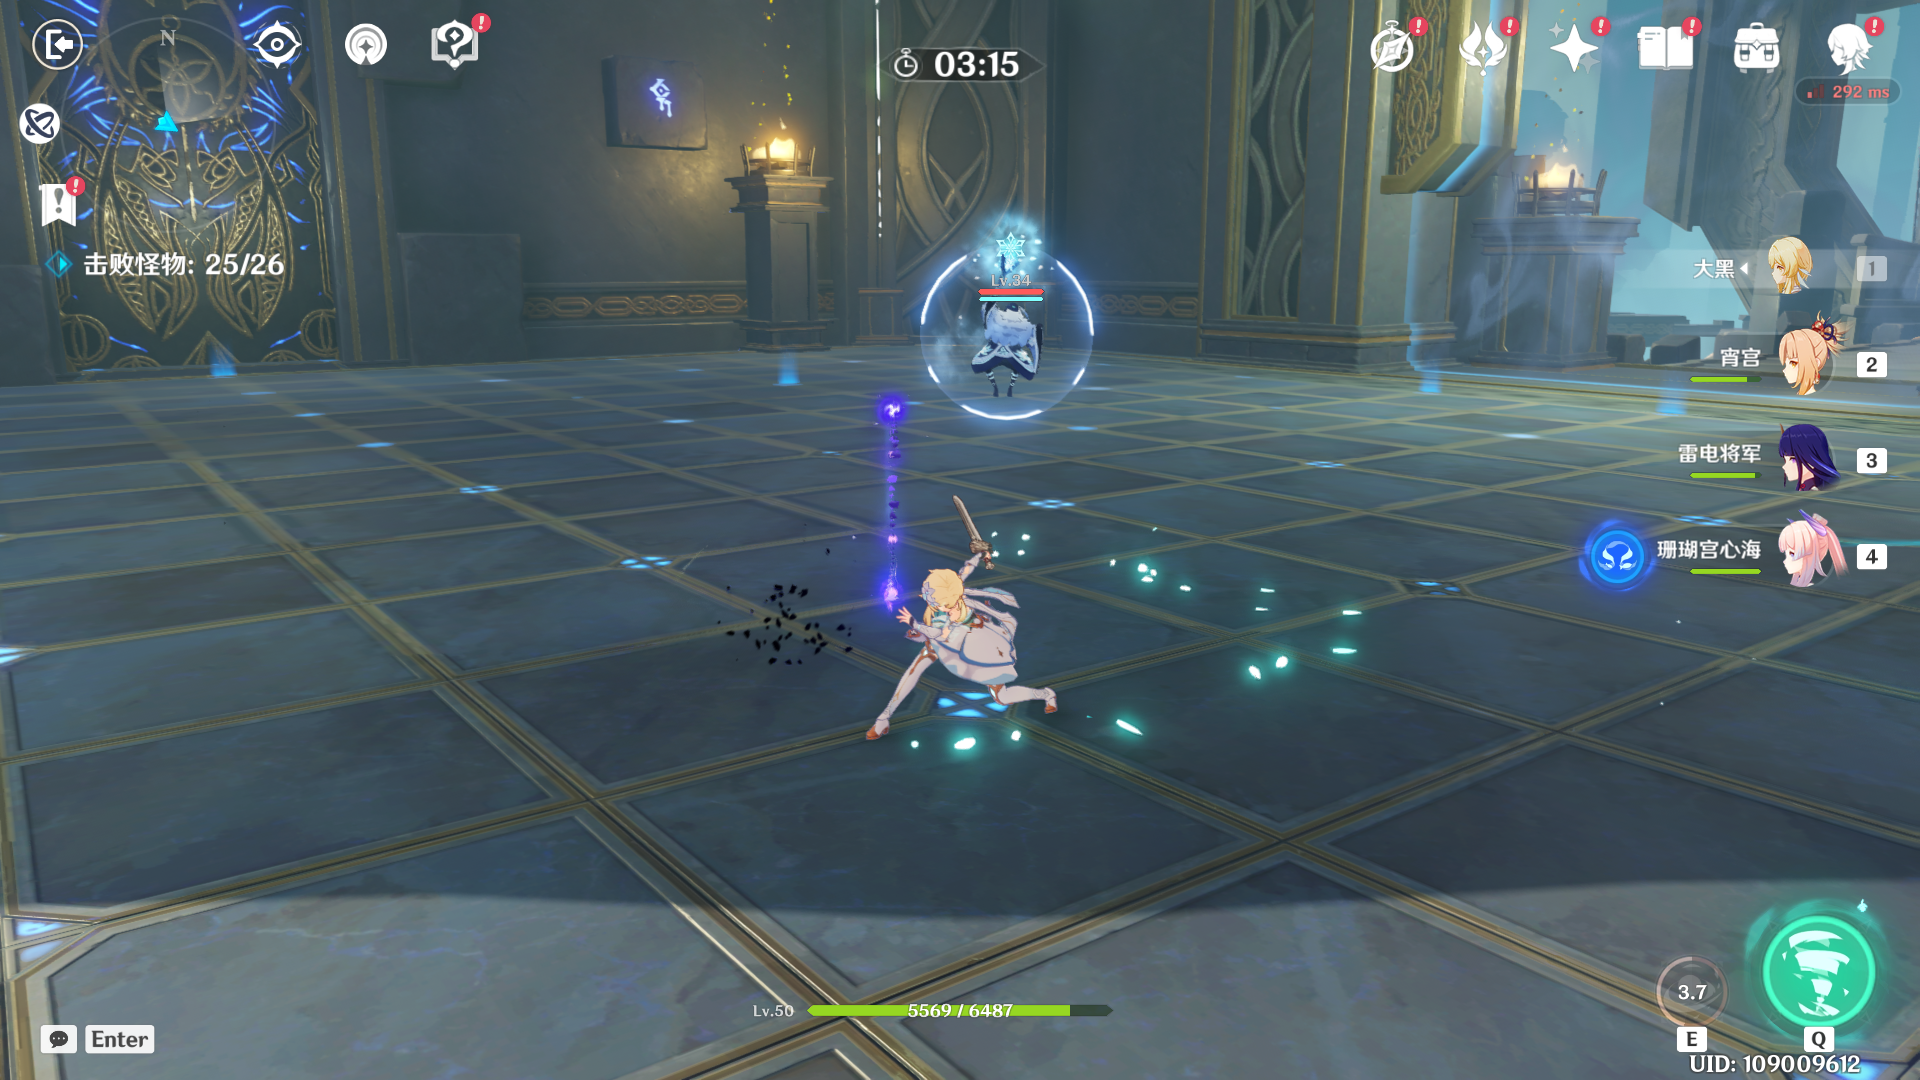caster: (927, 262, 1095, 409)
character: (827, 517, 1093, 771)
